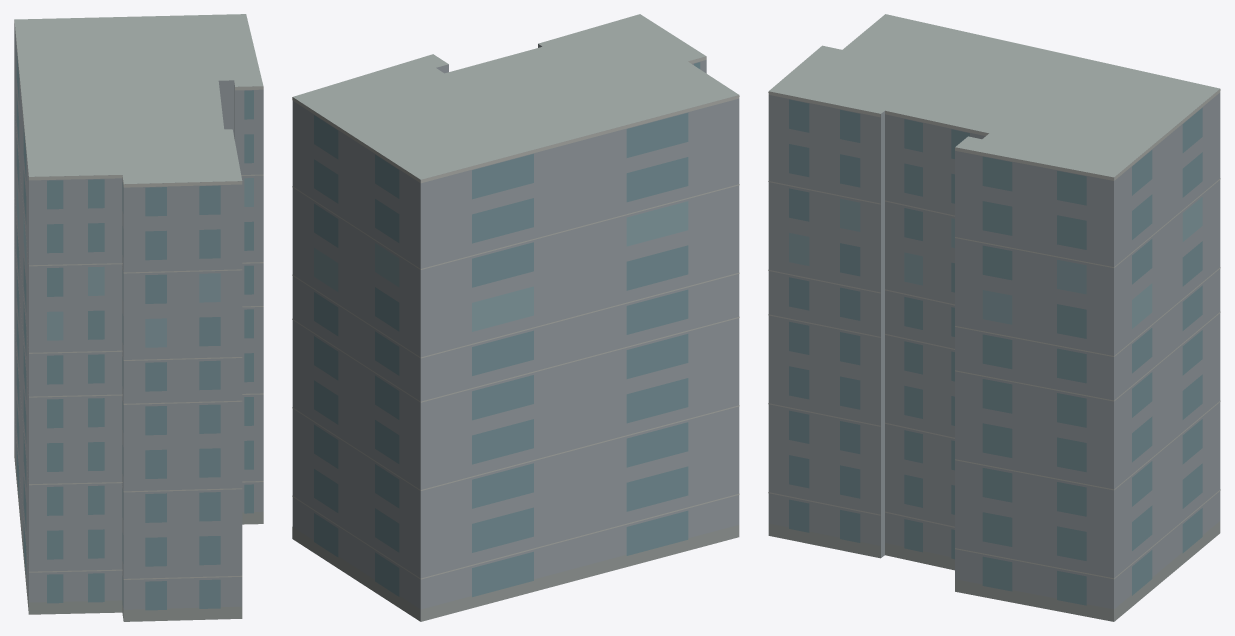
Rendered from survey-upis-32668660.glb.
3 views of the same model, side by side, from view 1: azimuth 30°, elevation 25°; view 2: azimuth 150°, elevation 25°; view 3: azimuth 270°, elevation 25° (orthographic).
Visible parts, largest first — view 1: survey-upis-32668660.tmp; view 2: survey-upis-32668660.tmp; view 3: survey-upis-32668660.tmp.
Boxes of the visible parts, <box> form: survey-upis-32668660.tmp: <box>14,14,263,621</box>; survey-upis-32668660.tmp: <box>292,14,739,621</box>; survey-upis-32668660.tmp: <box>768,14,1220,621</box>.
Size of the model in its own units: 24.08 by 30.5 by 28.12.
